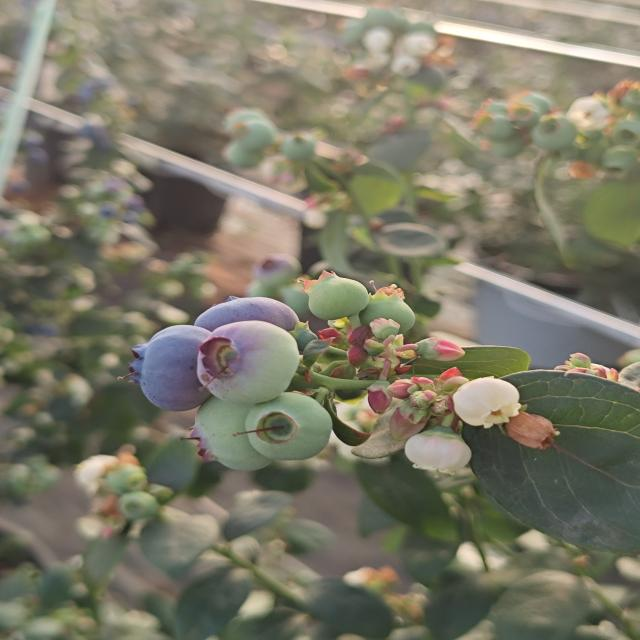ripe: (123, 322, 215, 412), (192, 295, 313, 345)
